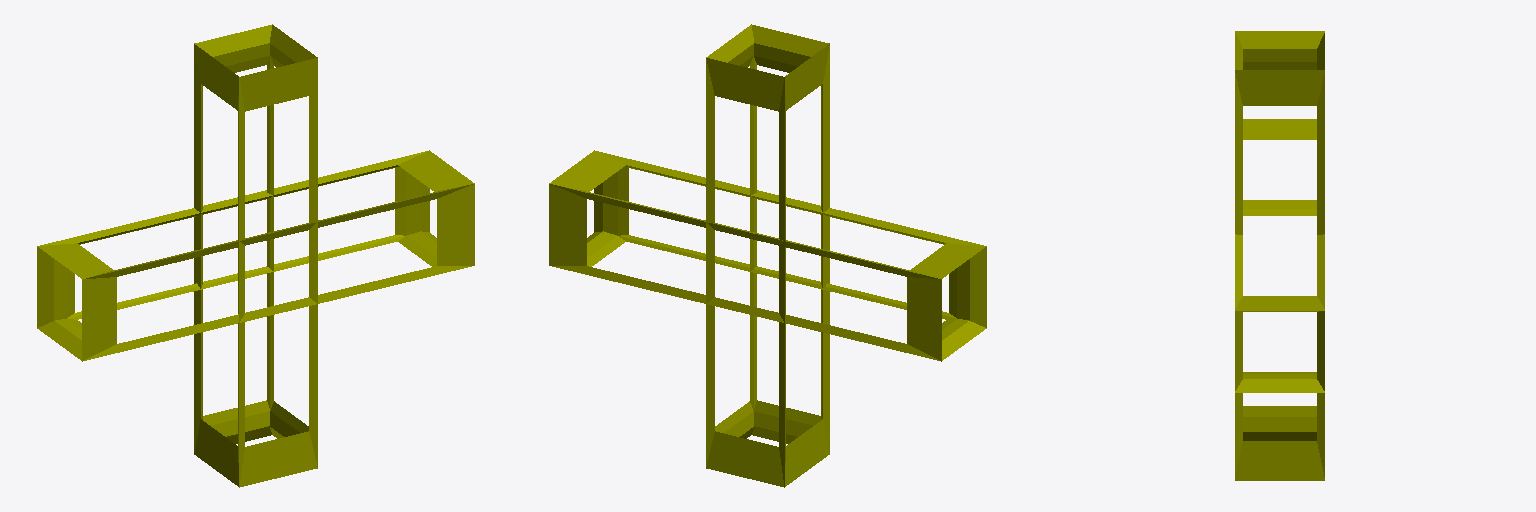
File: health.obj
The picture shows the model from 3 angles: view 1: azimuth 30°, elevation 25°; view 2: azimuth 150°, elevation 25°; view 3: azimuth 270°, elevation 25°; orthographic projection.
Parts seen in each view (by area): view 1: Cube_Cube.002, Cube.001_Cube.003; view 2: Cube_Cube.002, Cube.001_Cube.003; view 3: Cube_Cube.002, Cube.001_Cube.003.
Part boxes in pixels (left/top/right/bottom): Cube_Cube.002: left=194, top=24, right=317, bottom=487; Cube.001_Cube.003: left=37, top=150, right=474, bottom=361; Cube_Cube.002: left=706, top=24, right=829, bottom=487; Cube.001_Cube.003: left=549, top=150, right=986, bottom=361; Cube_Cube.002: left=1235, top=31, right=1324, bottom=480; Cube.001_Cube.003: left=1235, top=119, right=1324, bottom=392.
Bounding box in the file's own units: 10.72 × 10.72 × 2.14.